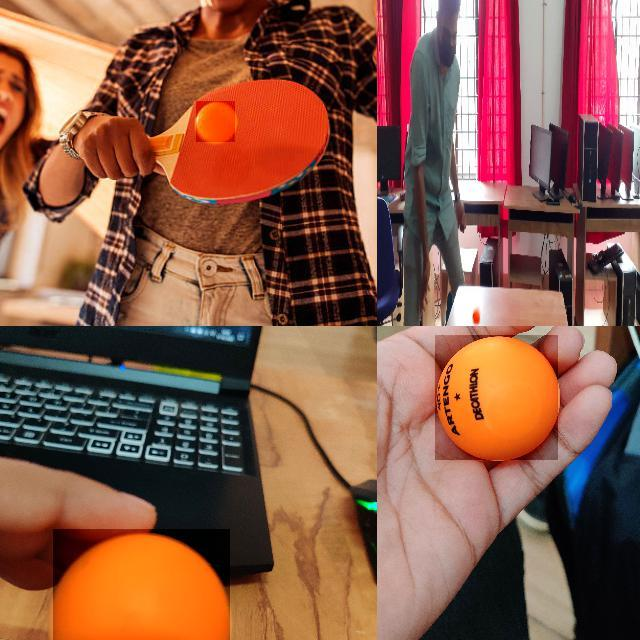ping-pong-ball: (53, 529, 232, 639), (435, 335, 559, 461), (196, 101, 236, 143), (472, 306, 481, 325)
